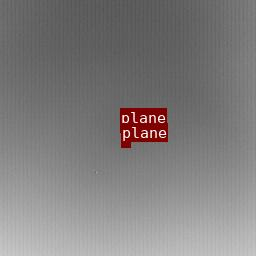plane: (120, 127, 132, 132), (121, 142, 130, 146)
